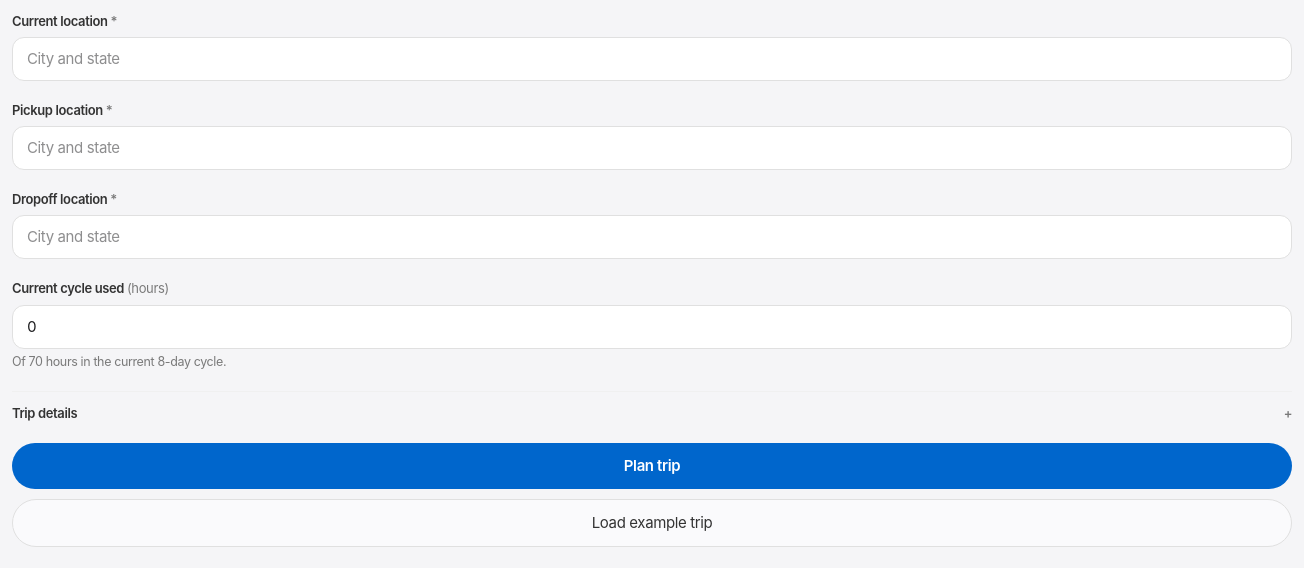
it: submission › plans the example trip in one click, not merely prefills it
The width and height of the screenshot is (1304, 568).
Click the button "Load example trip" at (652, 523), box [12,499,1292,547]
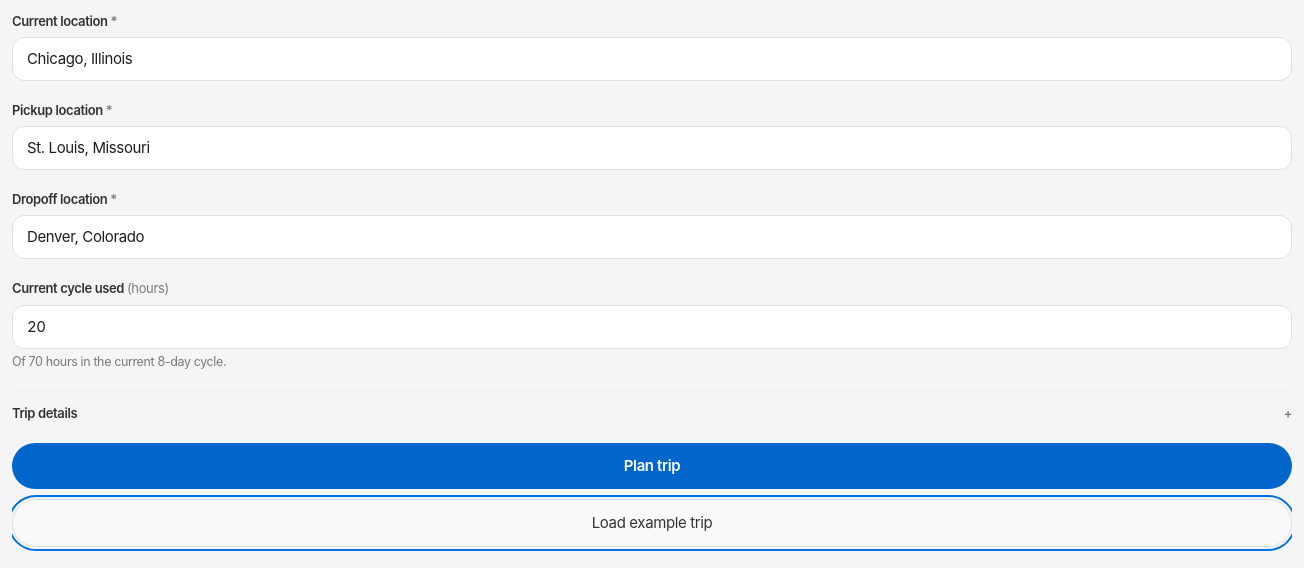
expect the dropdown showing "Chicago, Illinois" is shown: met, box [12,37,1292,81]
expect the dropdown showing "Denver, Colorado" is shown: met, box [12,215,1292,259]
